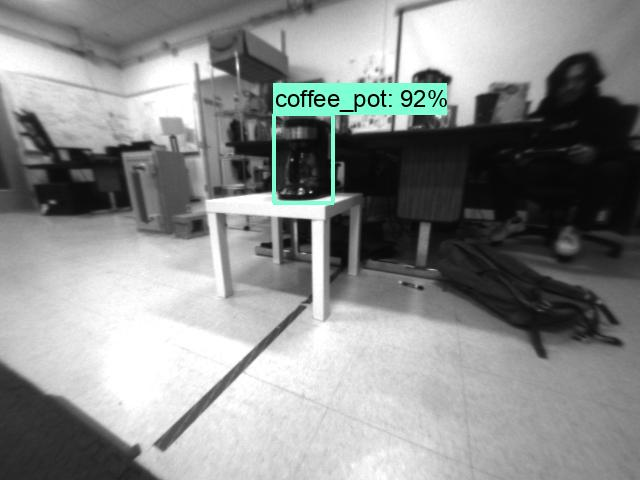coffee_pot: (275, 116, 340, 203)
